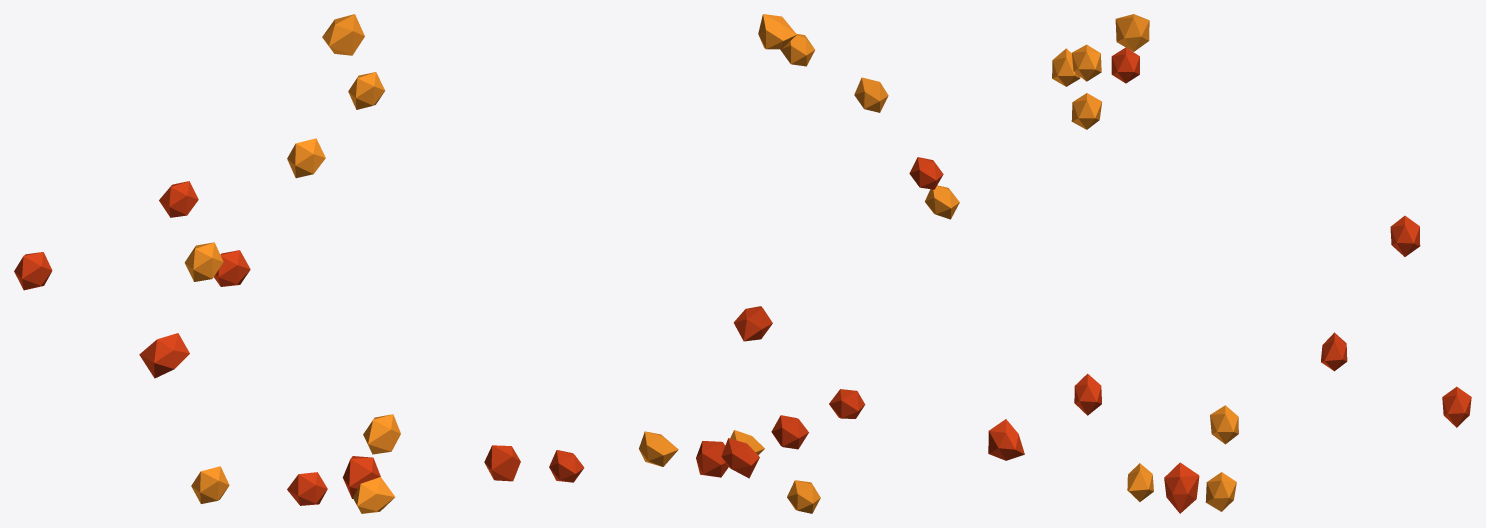
Rendered from frame_15.glb.
3 renders of one model, left to right at view 1: azimuth 30°, elevation 25°; view 2: azimuth 150°, elevation 25°; view 3: azimuth 270°, elevation 25°, orthographic. The views are drawn at different scales.
Visible parts, largest first — view 1: effect_explosion_large_frame_15; view 2: effect_explosion_large_frame_15; view 3: effect_explosion_large_frame_15.
Part boxes in pixels (x1=…): effect_explosion_large_frame_15: x1=14, y1=14, x2=520, y2=513; effect_explosion_large_frame_15: x1=549, y1=14, x2=959, y2=513; effect_explosion_large_frame_15: x1=988, y1=14, x2=1471, y2=513.
Size of the model in its own units: 13.54 by 22.62 by 20.83.
